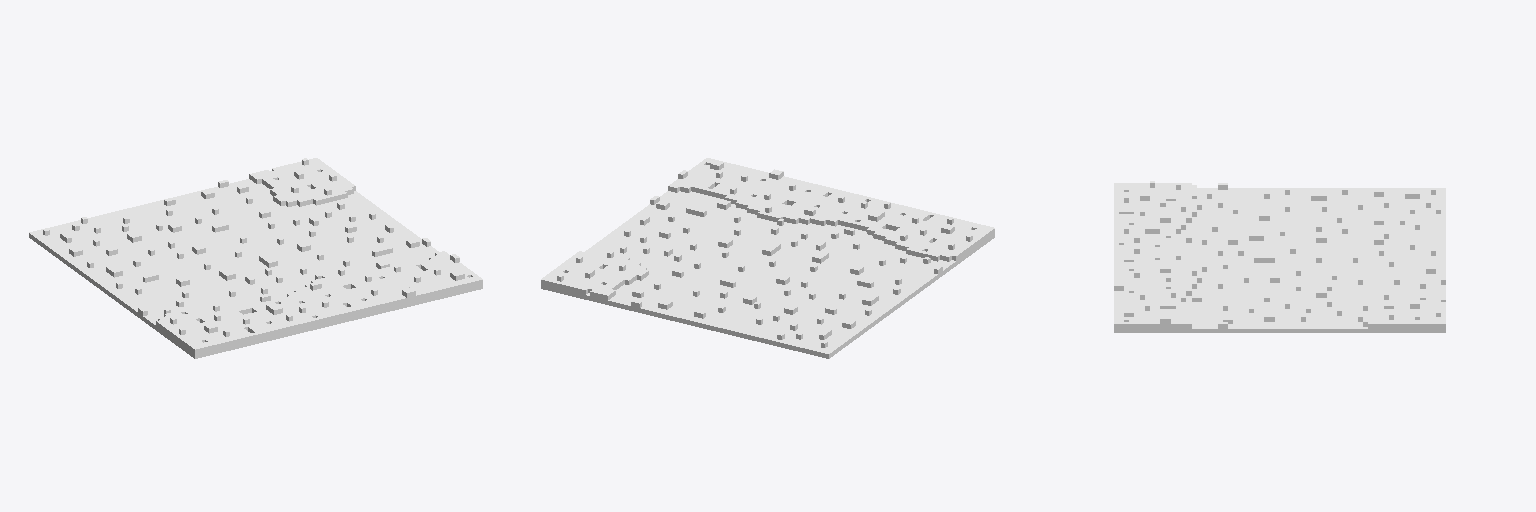
File: EarthenPath3Fork_2.obj
3 views of the same model, side by side, from view 1: azimuth 30°, elevation 25°; view 2: azimuth 150°, elevation 25°; view 3: azimuth 270°, elevation 25° (orthographic).
Visible parts, largest first — view 1: EarthenPath3Fork_2.001; view 2: EarthenPath3Fork_2.001; view 3: EarthenPath3Fork_2.001.
Boxes of the visible parts, box(x1,y1,x2,y2) form: EarthenPath3Fork_2.001: box(29, 158, 482, 358); EarthenPath3Fork_2.001: box(541, 158, 994, 358); EarthenPath3Fork_2.001: box(1114, 181, 1445, 332).
Bounding box in the file's own units: 1 × 0.0469 × 1.